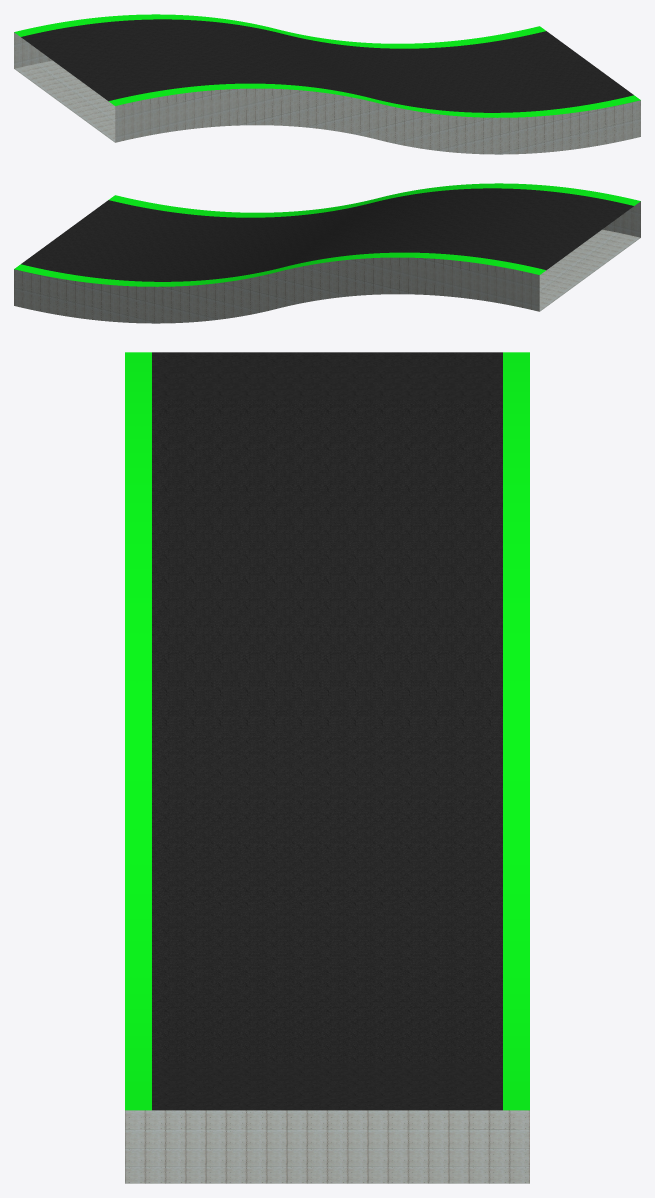
Rendered from elevation.dae.
The picture shows the model from 3 angles, top to bottom: view 1: azimuth 30°, elevation 25°; view 2: azimuth 150°, elevation 25°; view 3: azimuth 270°, elevation 25°; orthographic projection. The views are drawn at different scales.
Parts seen in each view (by area): view 1: Component_1 (×4); view 2: Component_1 (×4); view 3: Component_1 (×4).
Boxes of the visible parts, x1,y1,x2,y2 form: Component_1 (×4): [14, 14, 640, 154]; Component_1 (×4): [14, 183, 640, 323]; Component_1 (×4): [125, 352, 529, 1183].
Size of the model in its own units: 3543 by 1181 by 1024.
Materials: 3 (3 with a texture image).
